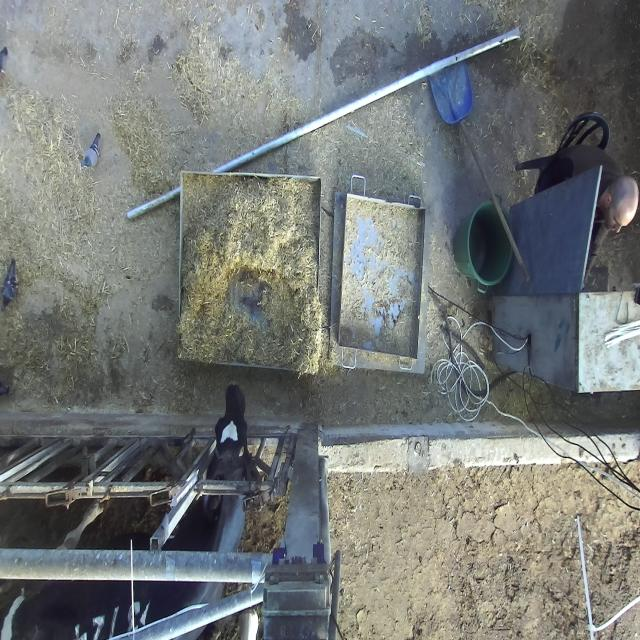cow: (206, 387, 262, 502)
